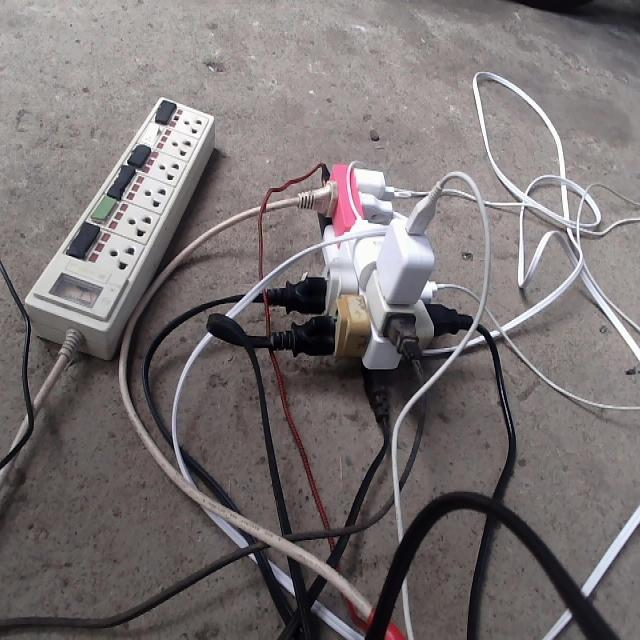-: (291, 151, 453, 397)
